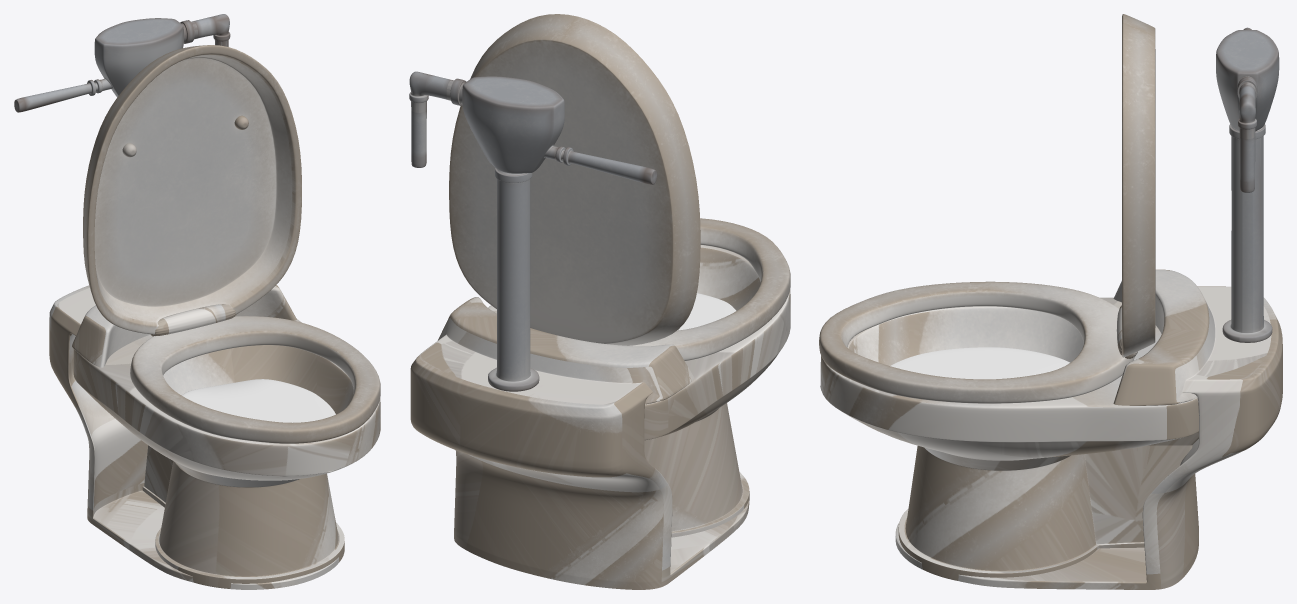
The model's file is M_SitToilet.fbx.
3 renders of one model, left to right at view 1: azimuth 30°, elevation 25°; view 2: azimuth 150°, elevation 25°; view 3: azimuth 270°, elevation 25°, orthographic. The views are drawn at different scales.
Visible parts, largest first — view 1: toiletlid_GEO, toiletbody_GEO, toiletbase_GEO, toiletseat_GEO, toiletflush_GEO, water_GEO, toilethinge_GEO; view 2: toiletbase_GEO, toiletlid_GEO, toiletflush_GEO, toiletbody_GEO, toiletseat_GEO, water_GEO; view 3: toiletbody_GEO, toiletbase_GEO, toiletseat_GEO, toiletflush_GEO, toiletlid_GEO, water_GEO.
Boxes of the visible parts, box(x1,y1,x2,y2) form: toiletlid_GEO: box(83, 45, 301, 334); toiletbody_GEO: box(73, 319, 380, 588); toiletbase_GEO: box(49, 285, 339, 589); toiletseat_GEO: box(130, 316, 380, 443); toiletflush_GEO: box(14, 14, 230, 112); water_GEO: box(182, 379, 335, 422); toilethinge_GEO: box(150, 304, 235, 336); toiletbase_GEO: box(410, 297, 748, 589); toiletlid_GEO: box(449, 14, 700, 345); toiletflush_GEO: box(409, 71, 657, 391); toiletbody_GEO: box(488, 245, 790, 537); toiletseat_GEO: box(630, 218, 790, 360); water_GEO: box(677, 293, 736, 330); toiletbody_GEO: box(820, 297, 1198, 580); toiletbase_GEO: box(895, 269, 1282, 589); toiletseat_GEO: box(819, 281, 1134, 403); toiletflush_GEO: box(1216, 27, 1279, 342); toiletlid_GEO: box(1122, 14, 1155, 357); water_GEO: box(890, 347, 1069, 379).
Size of the model in its own units: 36.05 by 69.69 by 56.42.
Materials: 3 (2 with a texture image).
